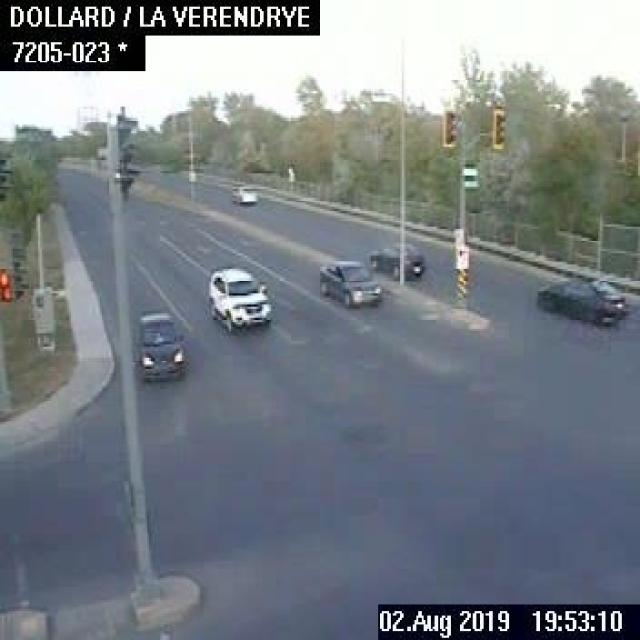vehicle: (206, 264, 272, 336), (536, 276, 629, 322), (132, 306, 184, 384), (316, 260, 379, 306), (367, 240, 423, 280), (229, 182, 262, 207)
